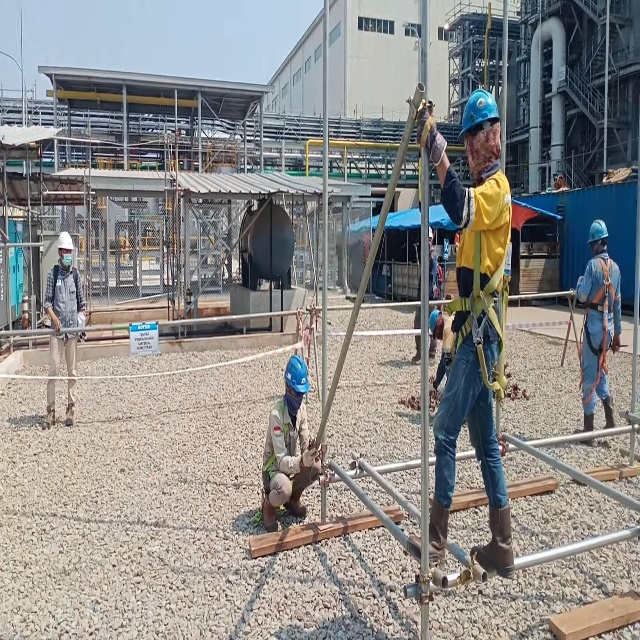Arnes_seguridad: (447, 223, 508, 409), (578, 249, 616, 408), (251, 389, 294, 527)
